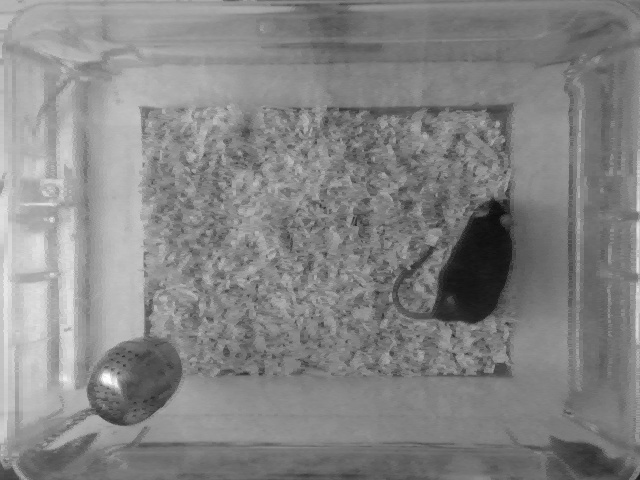mice: (392, 190, 519, 325)
